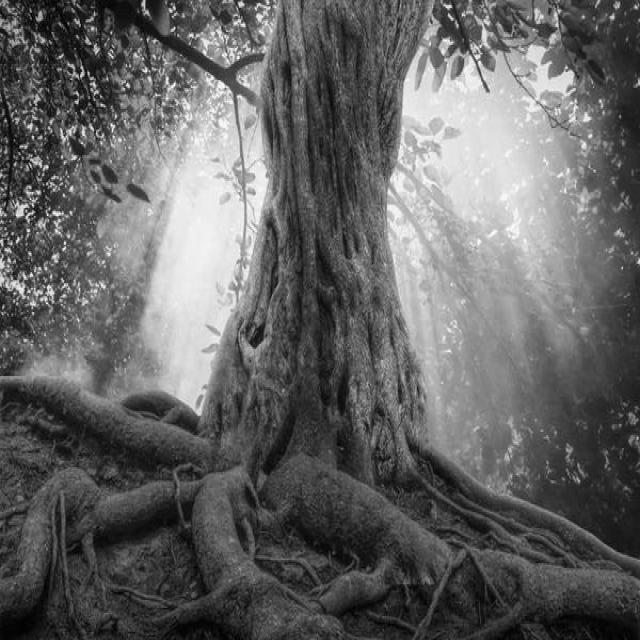Tree: (201, 2, 432, 486)
